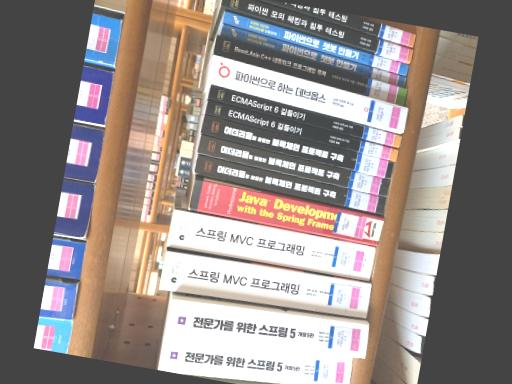book-spine: (208, 53, 408, 132), (167, 207, 376, 280), (158, 250, 370, 315), (214, 34, 407, 105), (189, 177, 384, 244), (208, 83, 402, 147), (222, 9, 409, 75), (166, 296, 368, 357), (200, 114, 395, 177), (206, 97, 398, 160), (221, 0, 414, 62), (198, 133, 390, 195), (194, 153, 386, 214), (219, 23, 406, 85), (158, 334, 352, 384), (264, 0, 416, 47)
